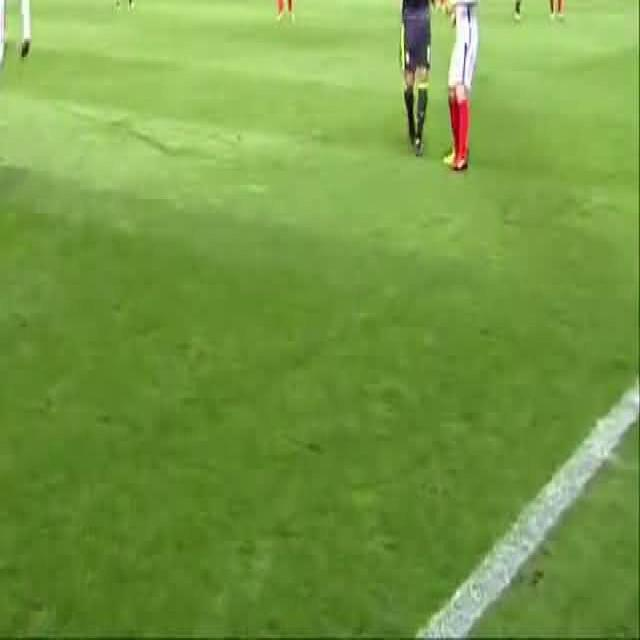player-white: (389, 0, 435, 160), (0, 0, 30, 215), (443, 0, 478, 170), (273, 0, 295, 22), (542, 0, 565, 18), (511, 0, 524, 22), (116, 0, 134, 7)
